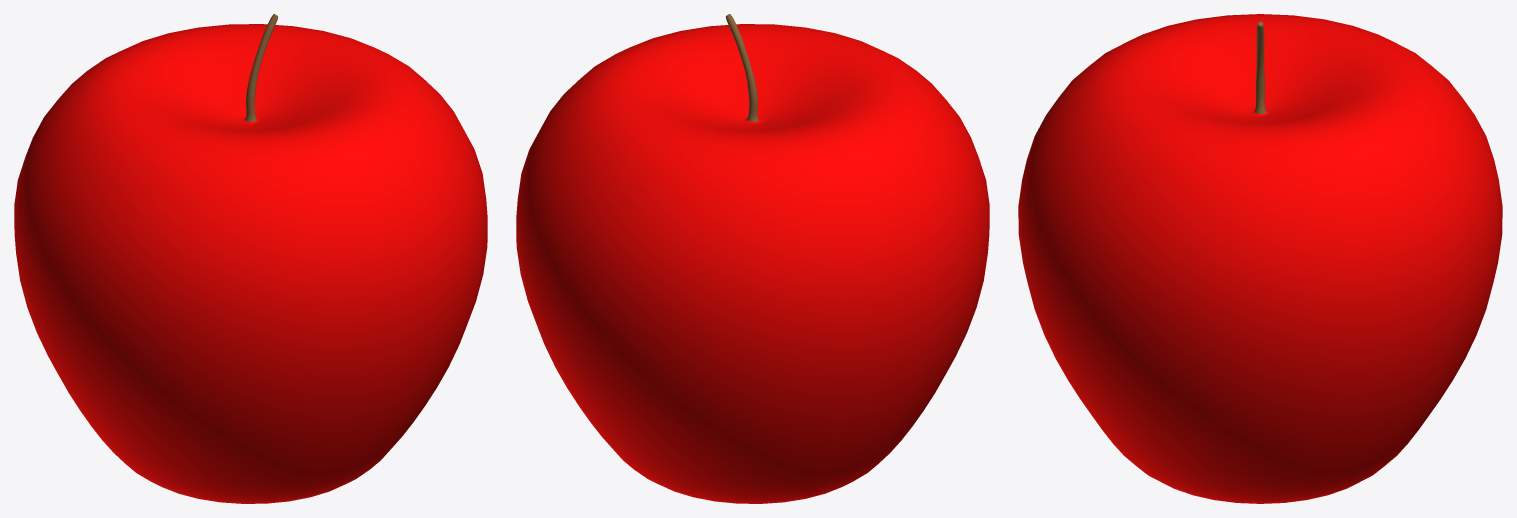
File: Apel.fbx
3 renders of one model, left to right at view 1: azimuth 30°, elevation 25°; view 2: azimuth 150°, elevation 25°; view 3: azimuth 270°, elevation 25°, orthographic. The views are drawn at different scales.
Visible parts, largest first — view 1: Apel; view 2: Apel; view 3: Apel.
Part boxes in pixels (x1,y1,x2,y2): Apel: (14,14,487,503); Apel: (516,14,989,503); Apel: (1018,14,1502,503).
Size of the model in its own units: 178 by 182 by 178.
